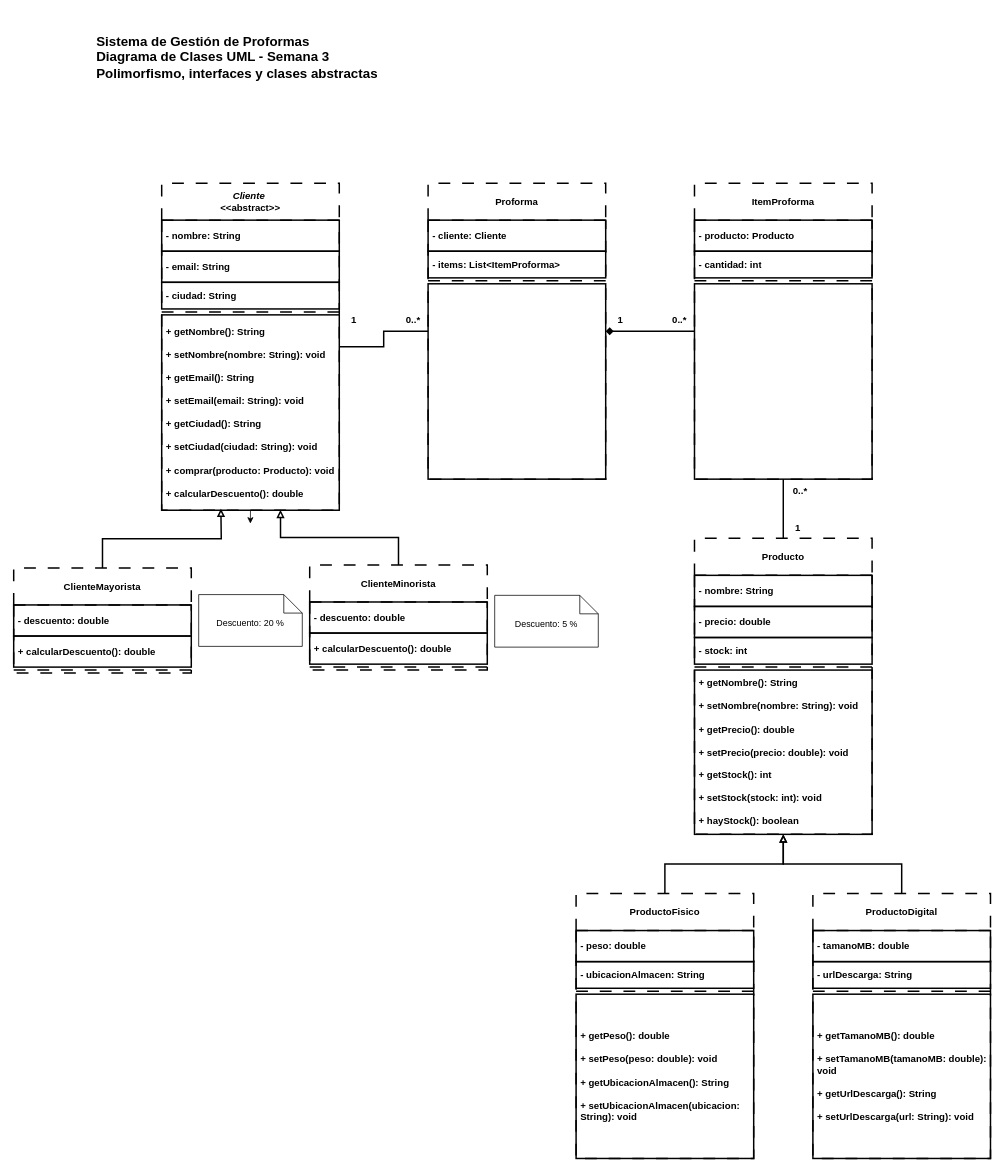
The diagram is 1003 pixels wide and 1171 high, and some of its shapes have lost their labels. Here are the shapes that lost their labels. From the top down, the centre of each, then its label:
point 516,381: + agregarItem(item: ItemProforma): void + calcularTotal(): double
point 782,381: + getProducto(): Producto + getCantidad(): int + calcularSubtotal(): double
